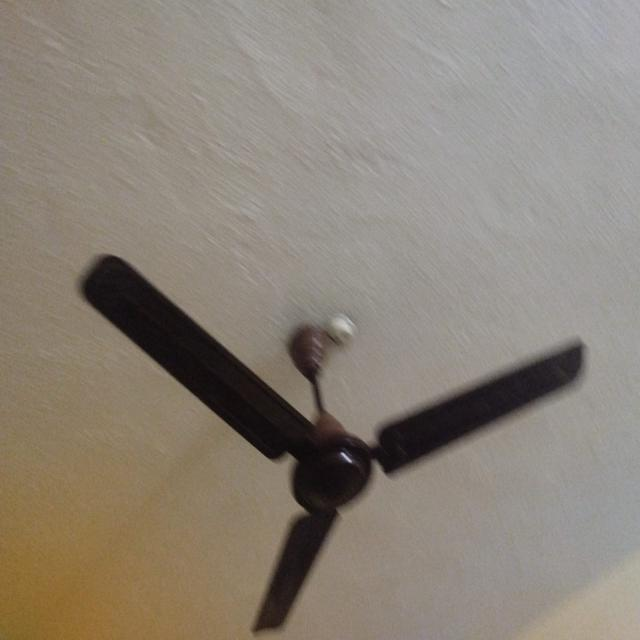fan_off: (84, 250, 583, 640)
